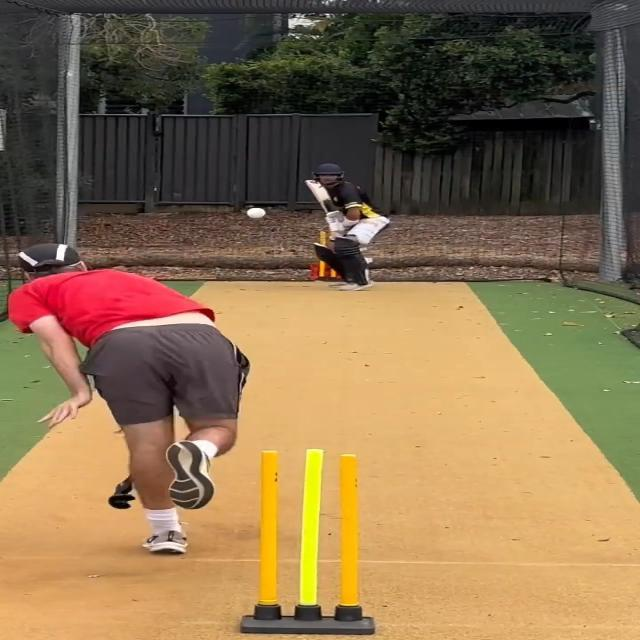ball: (244, 206, 268, 221)
stump: (241, 448, 377, 636)
